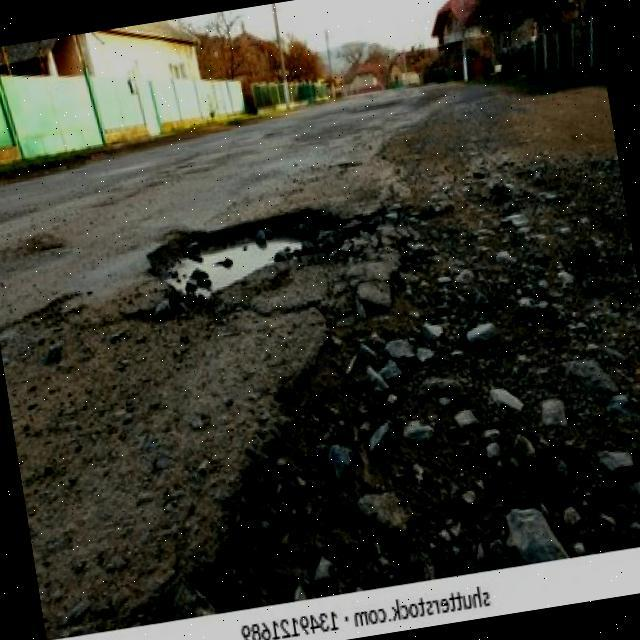Pothole: (109, 156, 640, 630), (147, 215, 344, 321)
